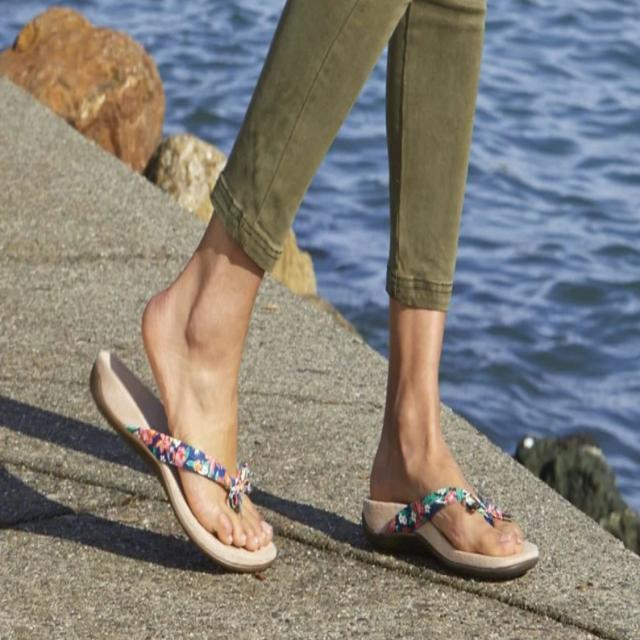Sandals: (89, 347, 277, 574), (362, 471, 540, 582)
